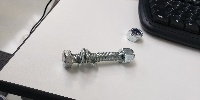FinishedAssembly: (60, 49, 139, 70)
Nut: (126, 26, 144, 43)
